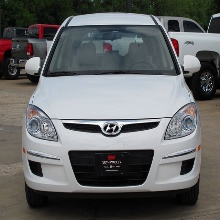no damage: (22, 12, 203, 207)
